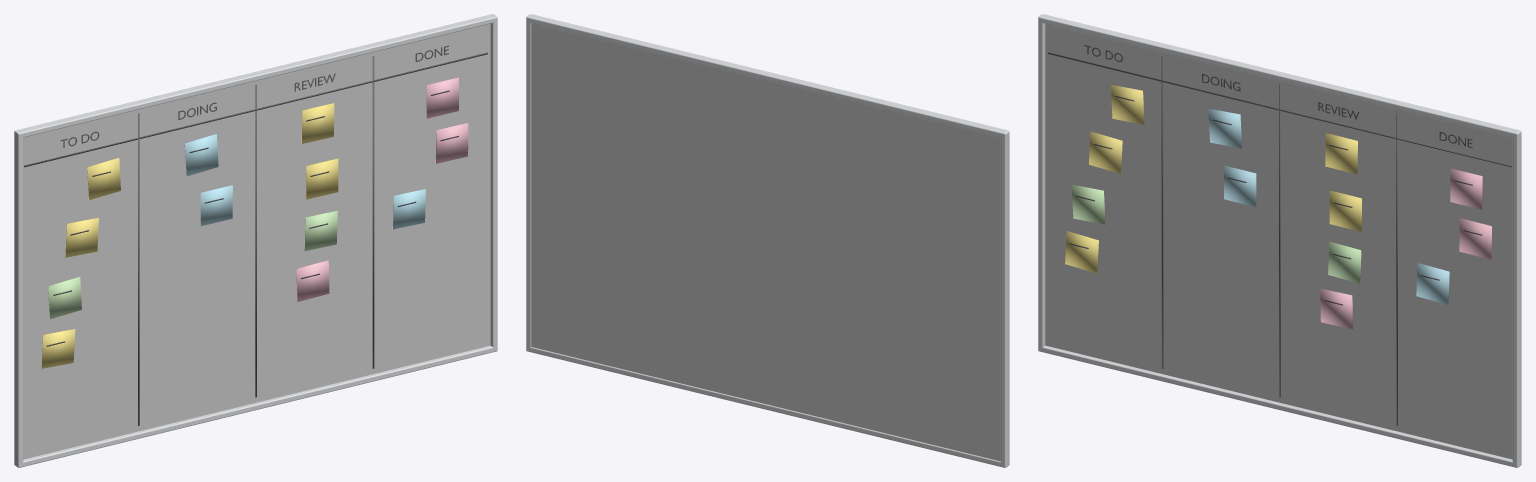
Rendered from kanban_board.glb.
3 views of the same model, side by side, from view 1: azimuth 30°, elevation 25°; view 2: azimuth 150°, elevation 25°; view 3: azimuth 330°, elevation 25° (orthographic).
Parts seen in each view (by area): view 1: Cube, Cube.002, Cube.001, Cube.003, Cube.004, Cube.008, Cube.019, Cube.011, Cube.023, Cube.025, Cube.013, Cube.029 (+10 smaller); view 2: Cube, Cube.002, Cube.003, Cube.001, Cube.004; view 3: Cube, Cube.002, Cube.001, Cube.004, Cube.003, Cube.008, Cube.015, Cube.019, Cube.029, Cube.031, Cube.009, Cube.011 (+10 smaller).
Boxes of the visible parts, x1,y1,x2,y2 form: Cube: (23, 24, 490, 459); Cube.002: (14, 14, 497, 137); Cube.001: (14, 345, 497, 467); Cube.003: (14, 131, 23, 466); Cube.004: (490, 14, 497, 351); Cube.008: (24, 52, 487, 167); Cube.019: (200, 185, 232, 226); Cube.011: (65, 217, 98, 257); Cube.023: (306, 158, 338, 199); Cube.025: (304, 210, 337, 250); Cube.013: (48, 276, 81, 319); Cube.029: (426, 77, 458, 118); Cube: (531, 23, 1000, 461); Cube.002: (526, 14, 1009, 137); Cube.003: (1000, 131, 1009, 467); Cube.001: (526, 347, 1009, 467); Cube.004: (526, 14, 531, 351); Cube: (1045, 24, 1512, 459); Cube.002: (1038, 14, 1521, 137); Cube.001: (1038, 345, 1521, 467); Cube.004: (1512, 131, 1521, 467); Cube.003: (1038, 15, 1045, 351); Cube.008: (1048, 52, 1511, 167); Cube.015: (1065, 231, 1098, 273); Cube.019: (1224, 165, 1256, 206); Cube.029: (1450, 168, 1482, 209); Cube.031: (1459, 218, 1491, 259); Cube.009: (1110, 84, 1144, 124); Cube.011: (1089, 131, 1122, 173).
Size of the model in its own units: 1.8 by 1.2 by 0.03.
